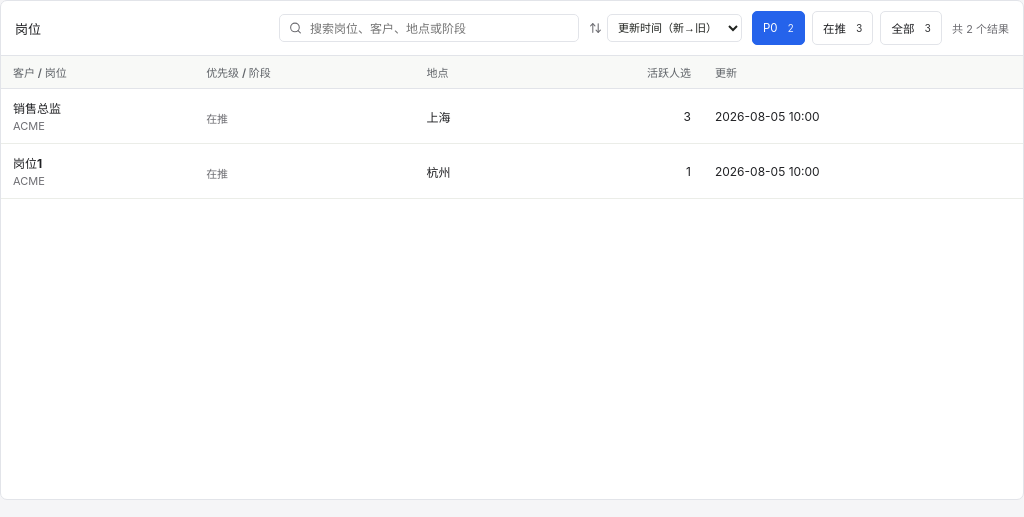
Test: 岗位列表 Jobs › 搜索跨字段过滤并联动计数，无结果时显示可靠空态
Click the button "全部 3" at (911, 28), box [880,11,942,45]
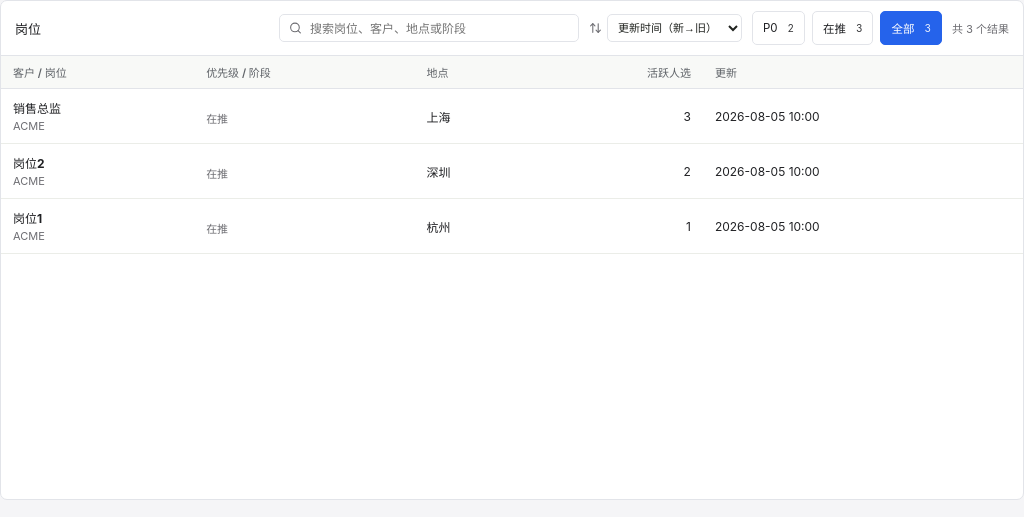
Expected: the message reads "共 3 个结果", [952,22,1009,36]
Type "杭州" into the search field labelled "搜索岗位" at (438, 28), box [308,20,569,36]
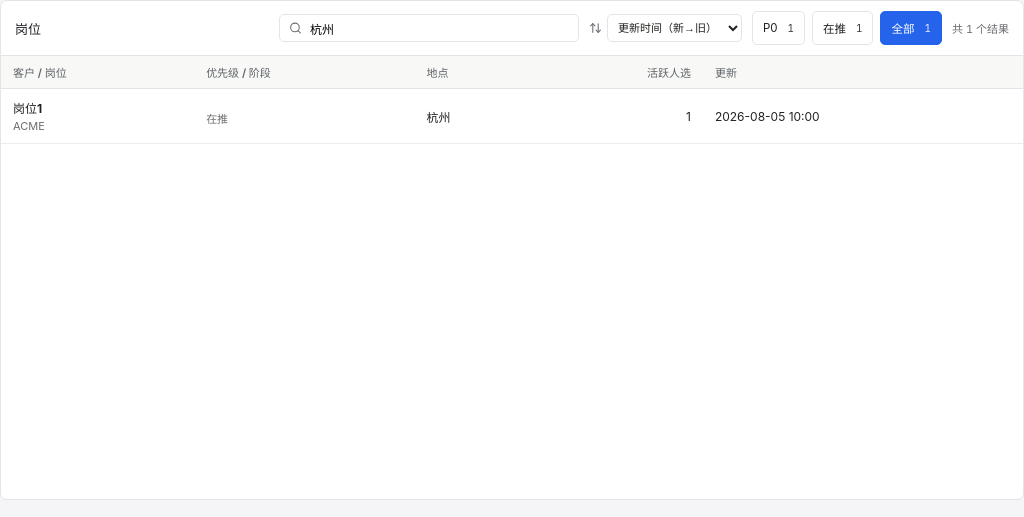
Expected: the text "岗位2" is gone
Expected: the button "全部 1" is shown, [880,11,942,45]
Expected: the message reads "共 1 个结果", [952,22,1009,36]
Replace the text in the search field named "搜索岗位" with "P0" at (438, 28), box [308,20,569,36]
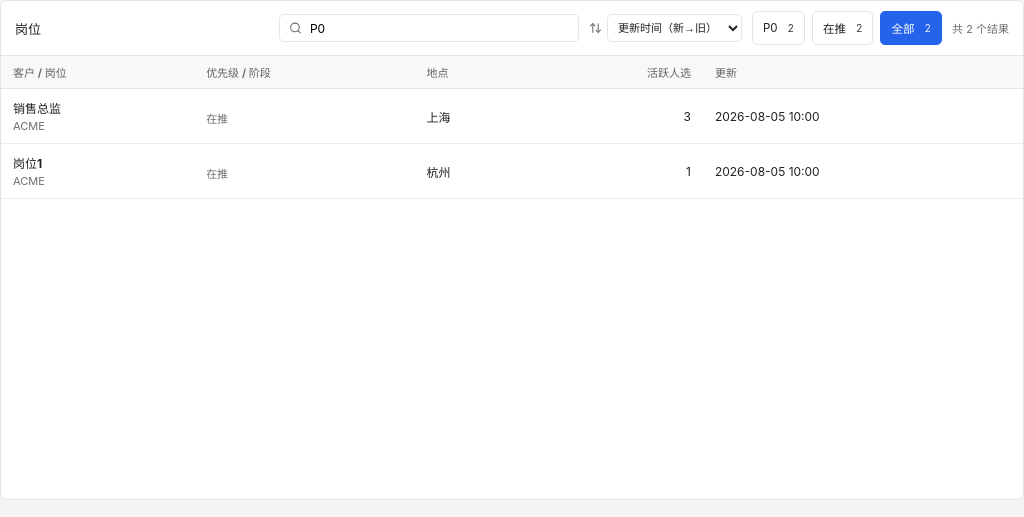
Expected: the message reads "共 2 个结果", [952,22,1009,36]
Expected: the button "P0 2" is shown, [752,11,805,45]
Replace the text in the search field named "搜索岗位" with "不存在的岗位" at (438, 28), box [308,20,569,36]
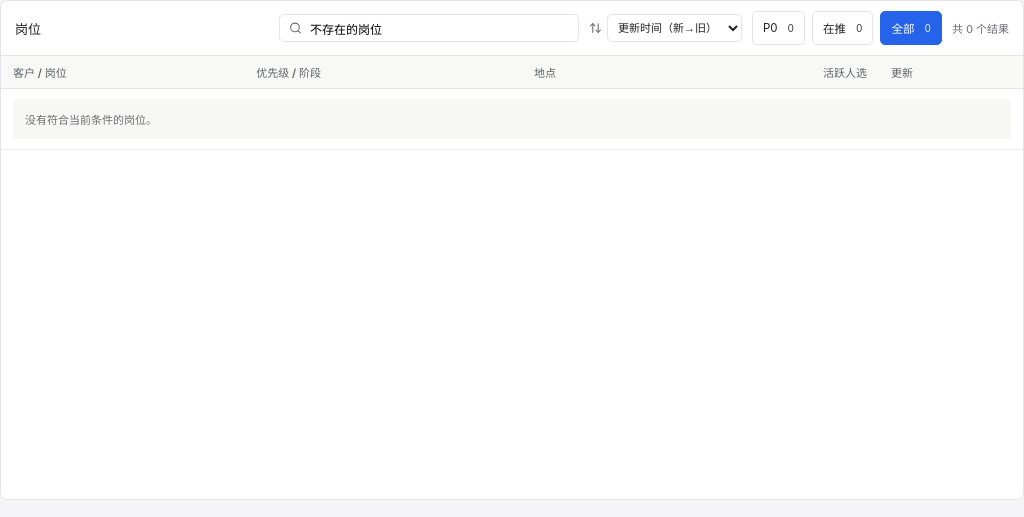
Expected: the message reads "共 0 个结果", [952,22,1009,36]
Expected: the text "没有符合当前条件的岗位。" is shown, [13,99,1011,139]
Clear the search field named "搜索岗位" at (438, 28), box [308,20,569,36]
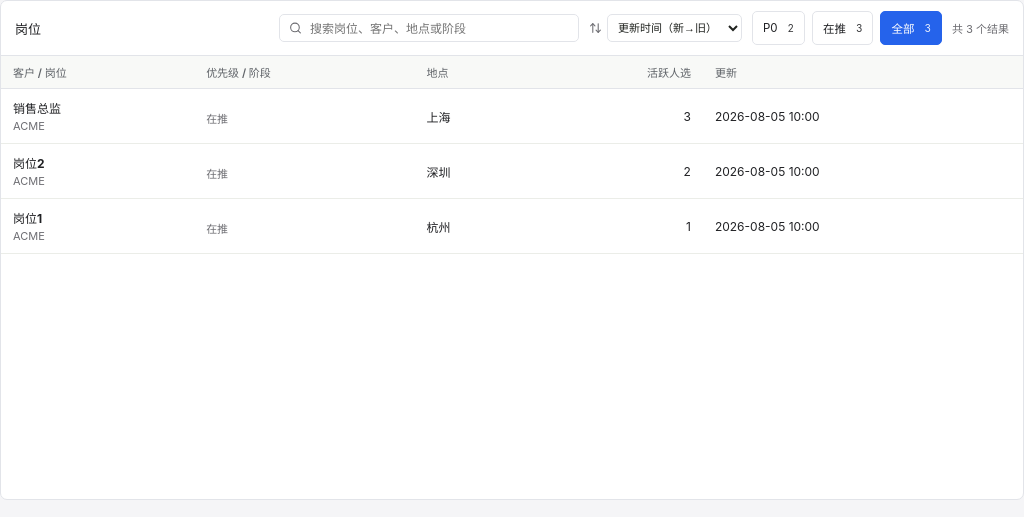
Expected: the message reads "共 3 个结果", [952,22,1009,36]
